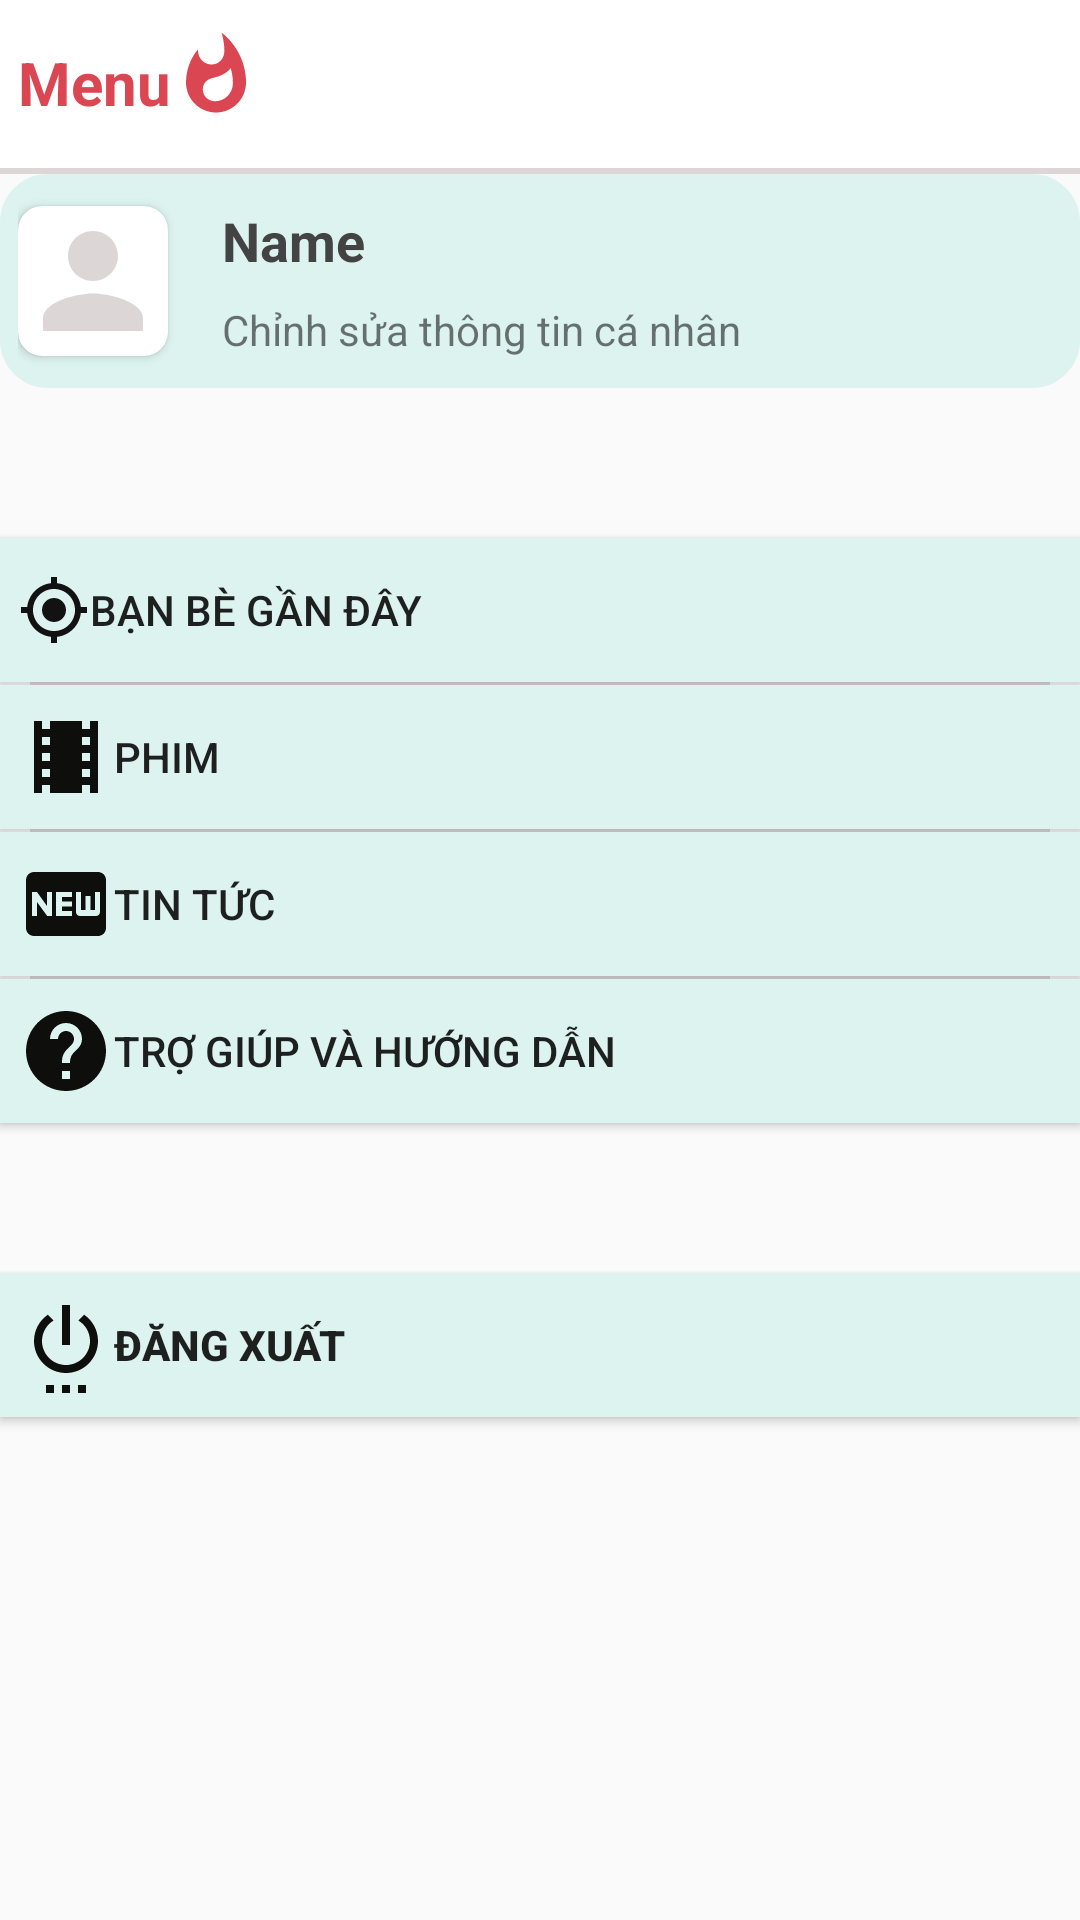

Icon bounding boxes for this 1080x1920 phone screenshot, format Rect(x1, y1, x2, y2):
person: Rect(18, 206, 168, 356)
